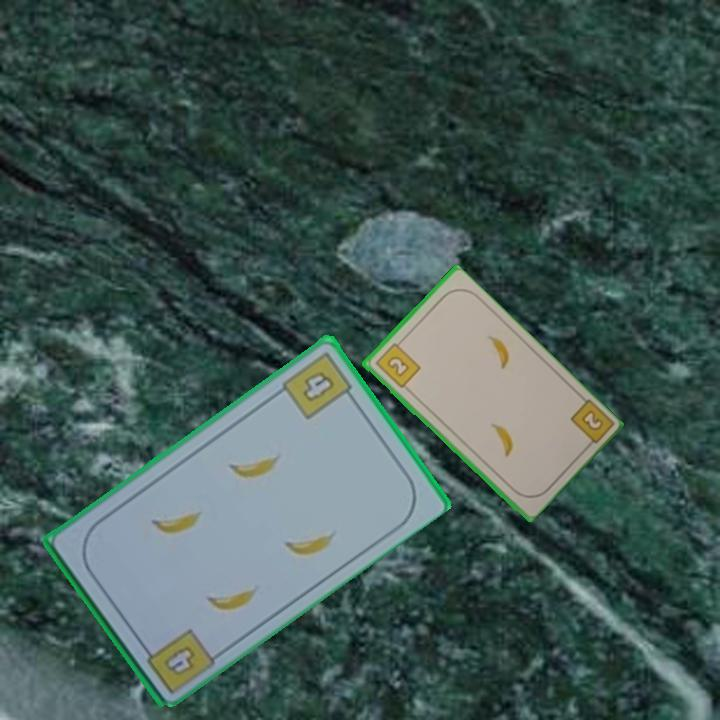2b: (371, 336, 423, 391), (566, 395, 614, 453)
4b: (278, 348, 359, 422), (164, 644, 195, 675)
